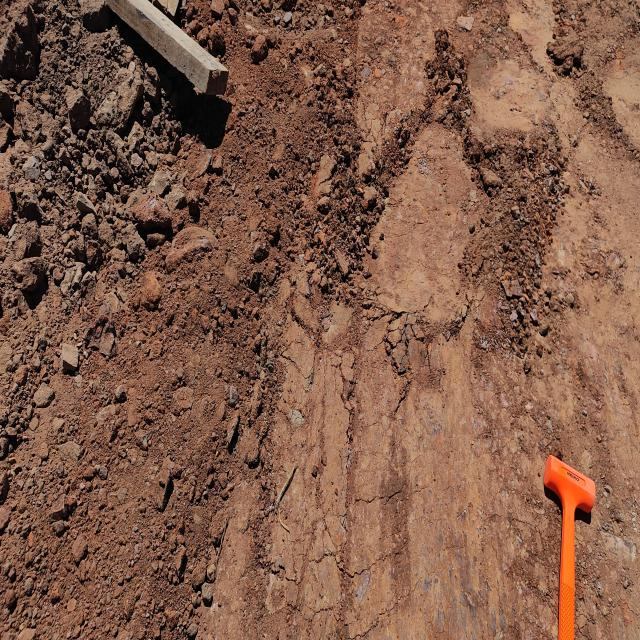Orange_hammer: (543, 454, 595, 638)
